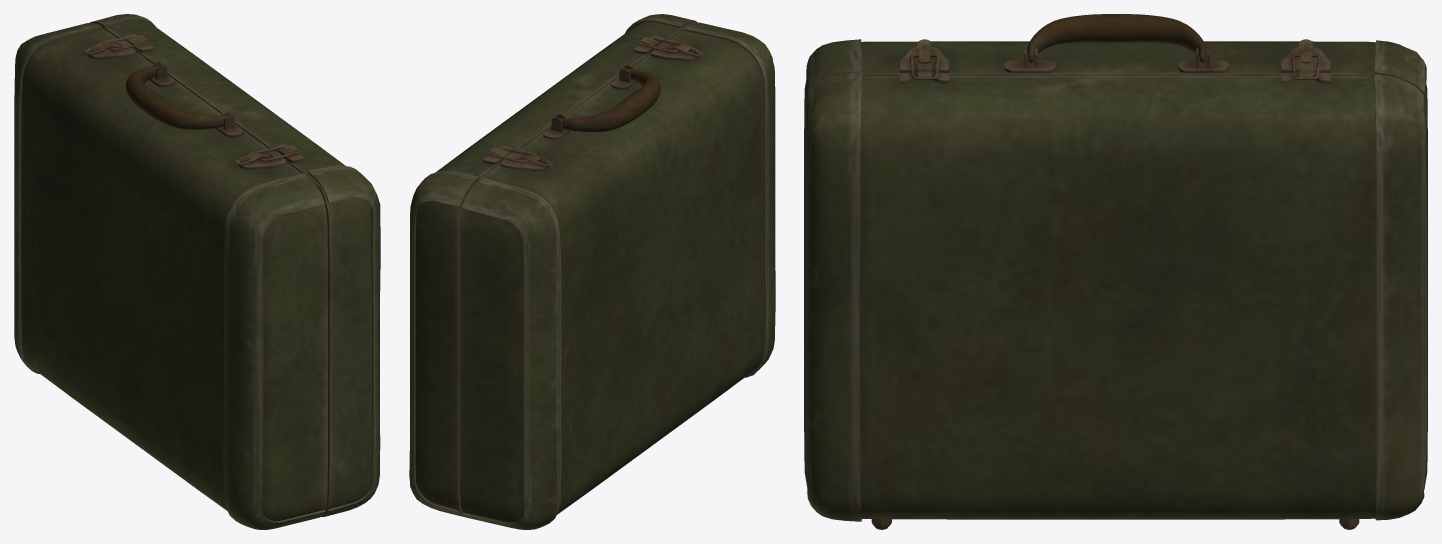
File: suitcase-vintage.glb
3 views of the same model, side by side, from view 1: azimuth 30°, elevation 25°; view 2: azimuth 150°, elevation 25°; view 3: azimuth 270°, elevation 25° (orthographic). The views are drawn at different scales.
Parts seen in each view (by area): view 1: suitcase-vintage; view 2: suitcase-vintage; view 3: suitcase-vintage.
Part boxes in pixels (box(x1,y1,x2,y2)): suitcase-vintage: box(14, 14, 380, 529); suitcase-vintage: box(409, 14, 775, 529); suitcase-vintage: box(804, 14, 1427, 529).
Bounding box in the file's own units: 0.2392 × 0.5679 × 0.6938.
Materials: 1 (1 with a texture image).
